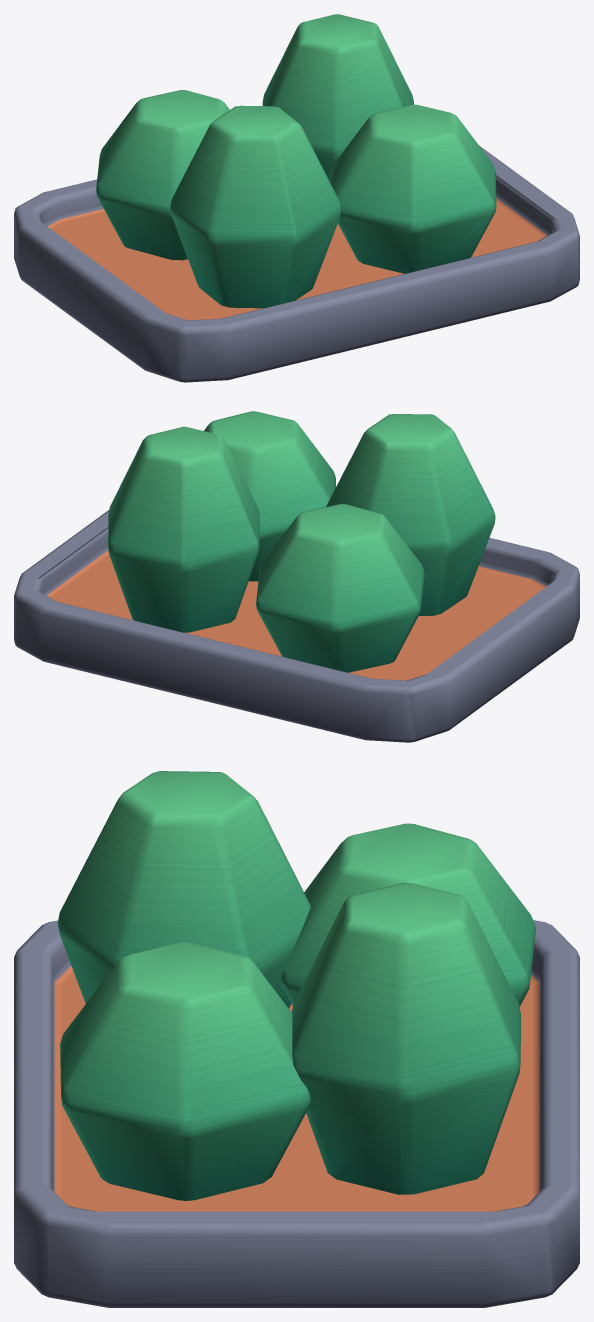
Rendered from planter.glb.
3 views of the same model, one above another, from view 1: azimuth 30°, elevation 25°; view 2: azimuth 150°, elevation 25°; view 3: azimuth 270°, elevation 25° (orthographic). The views are drawn at different scales.
Parts seen in each view (by area): view 1: planter; view 2: planter; view 3: planter.
Boxes of the visible parts, x1,y1,x2,y2 form: planter: (14, 14, 579, 382); planter: (14, 411, 579, 742); planter: (14, 771, 579, 1307).
Bounding box in the file's own units: 0.4 × 0.1771 × 0.3.
1 material, 1 textured.
